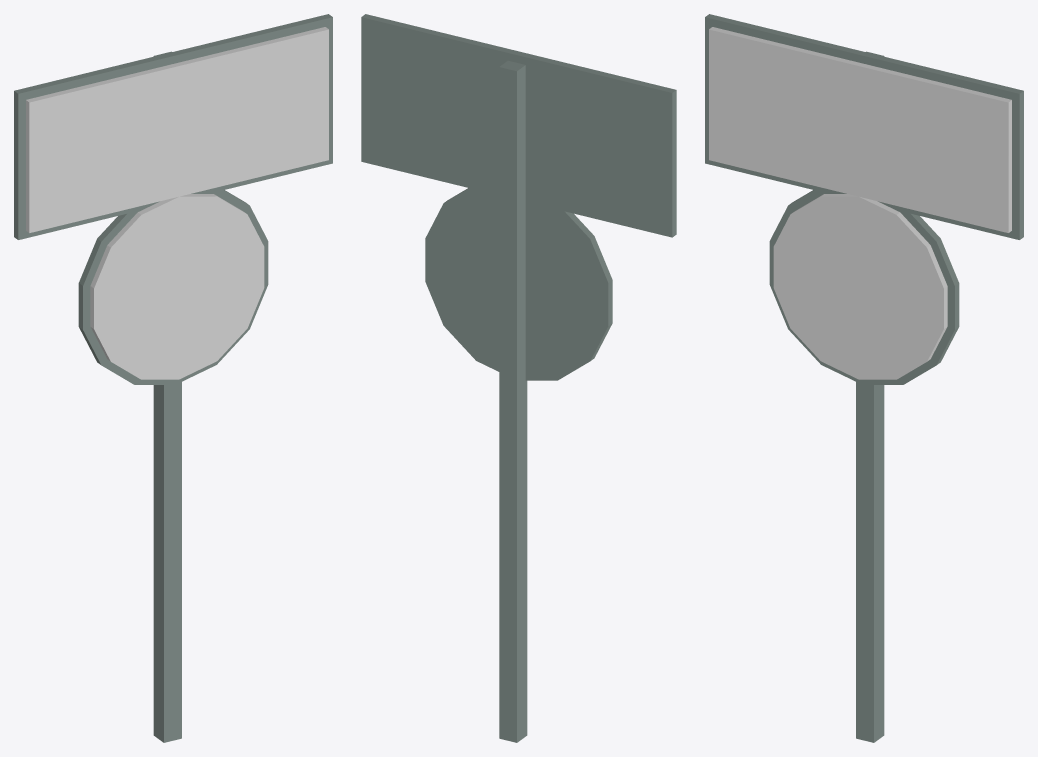
The model's file is SM_Senal_v3_Doble_LOD0.fbx.
3 views of the same model, side by side, from view 1: azimuth 30°, elevation 25°; view 2: azimuth 150°, elevation 25°; view 3: azimuth 330°, elevation 25° (orthographic).
Parts seen in each view (by area): view 1: SM_urbano_extra_v18_LOD0; view 2: SM_urbano_extra_v18_LOD0; view 3: SM_urbano_extra_v18_LOD0.
Boxes of the visible parts, left/top/right/bottom form: SM_urbano_extra_v18_LOD0: left=14, top=14, right=332, bottom=742; SM_urbano_extra_v18_LOD0: left=361, top=14, right=676, bottom=742; SM_urbano_extra_v18_LOD0: left=705, top=14, right=1023, bottom=742.
Bounding box in the file's own units: 1.26 × 2.63 × 0.116.
